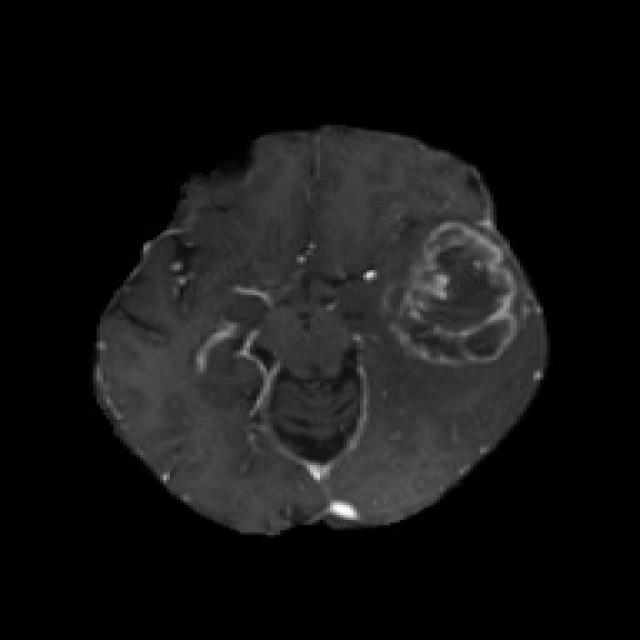positive: (392, 222, 518, 366)
